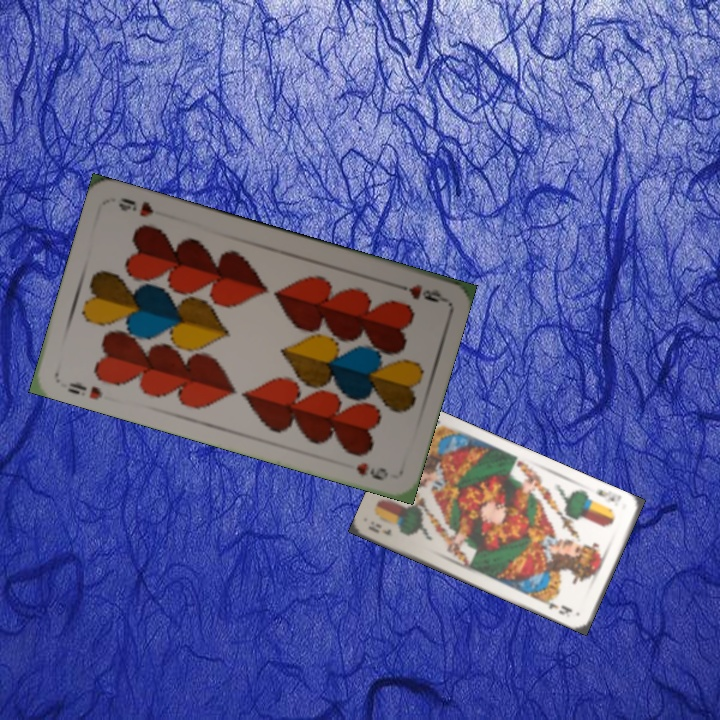EK: (591, 486, 624, 504), (365, 522, 394, 538)
H9: (388, 279, 446, 305), (63, 378, 105, 402)
